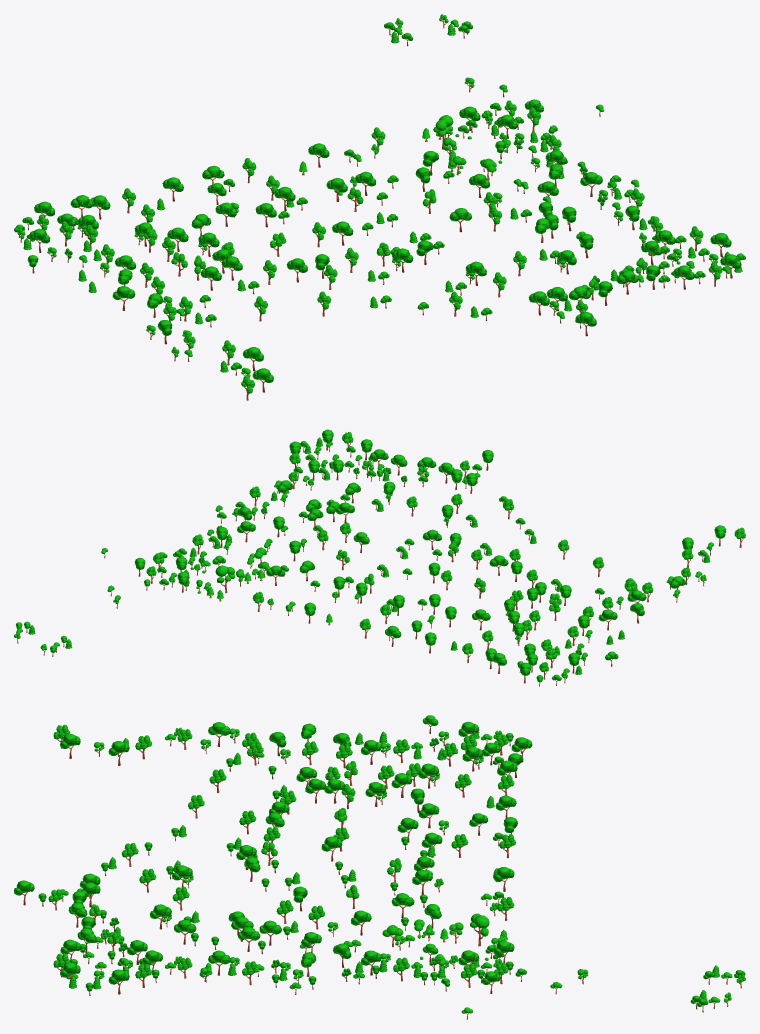
The model's file is ARBOLES_NUEVOS.glb.
The picture shows the model from 3 angles, top to bottom: view 1: azimuth 30°, elevation 25°; view 2: azimuth 150°, elevation 25°; view 3: azimuth 270°, elevation 25°; orthographic projection. The views are drawn at different scales.
Size of the model in its own units: 381 by 20.16 by 406.
